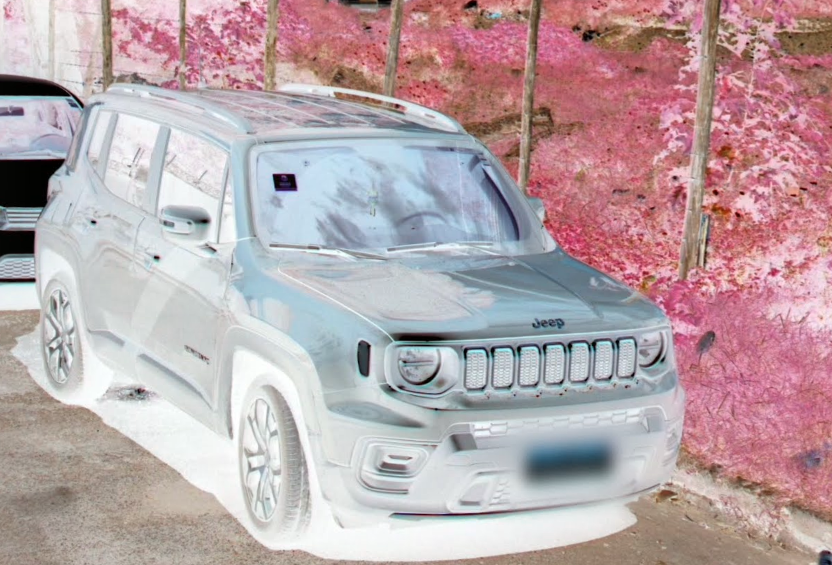car: (36, 71, 739, 529)
